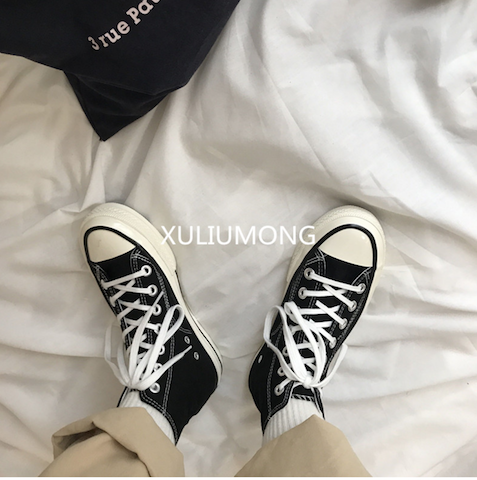shoes: (58, 188, 415, 417)
